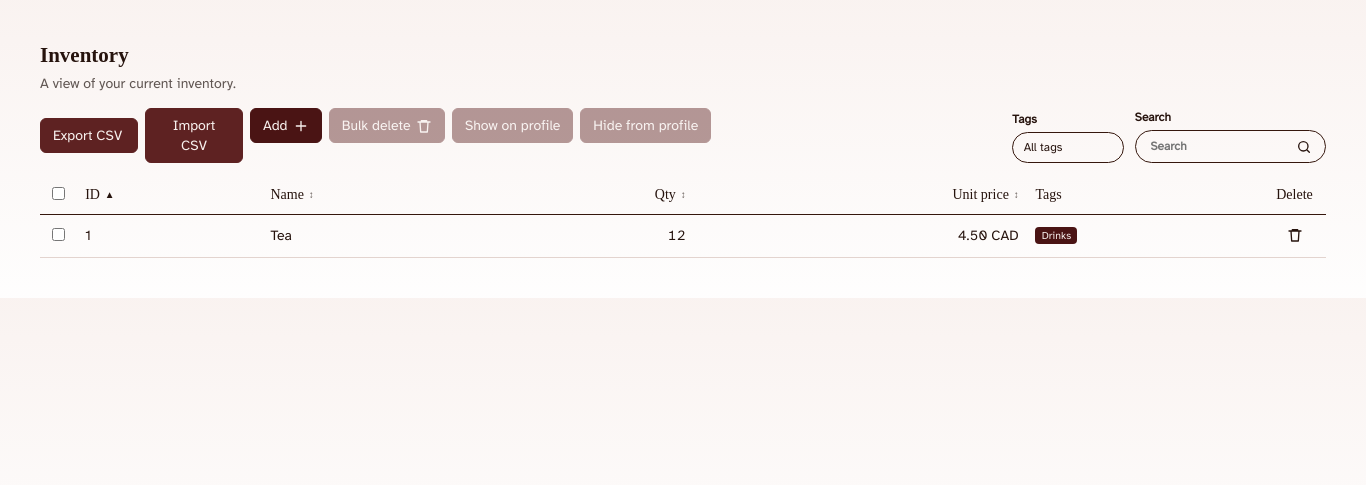
InventoryPage › filters by the ticked tags from page 1, and says when nothing has them
Check: the text "Tea" is shown, box [262, 214, 503, 257]
Step 1. Click the button "Tags All tags" → (1068, 148), box [1012, 132, 1124, 163]
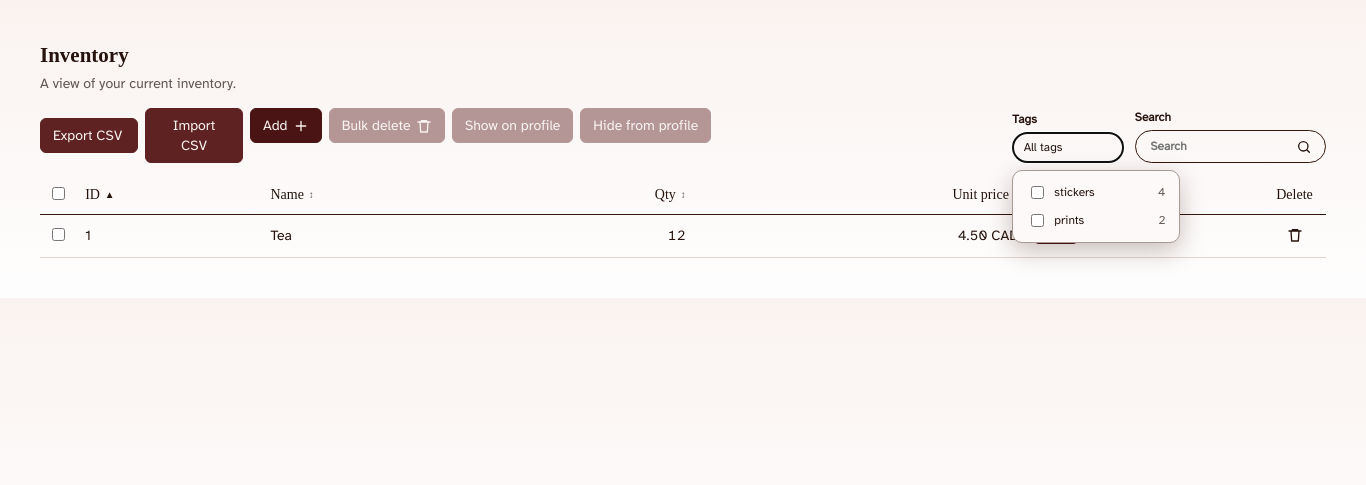
Step 2. Click the checkbox labelled "stickers 4" → (1038, 192), box [1031, 186, 1044, 199]
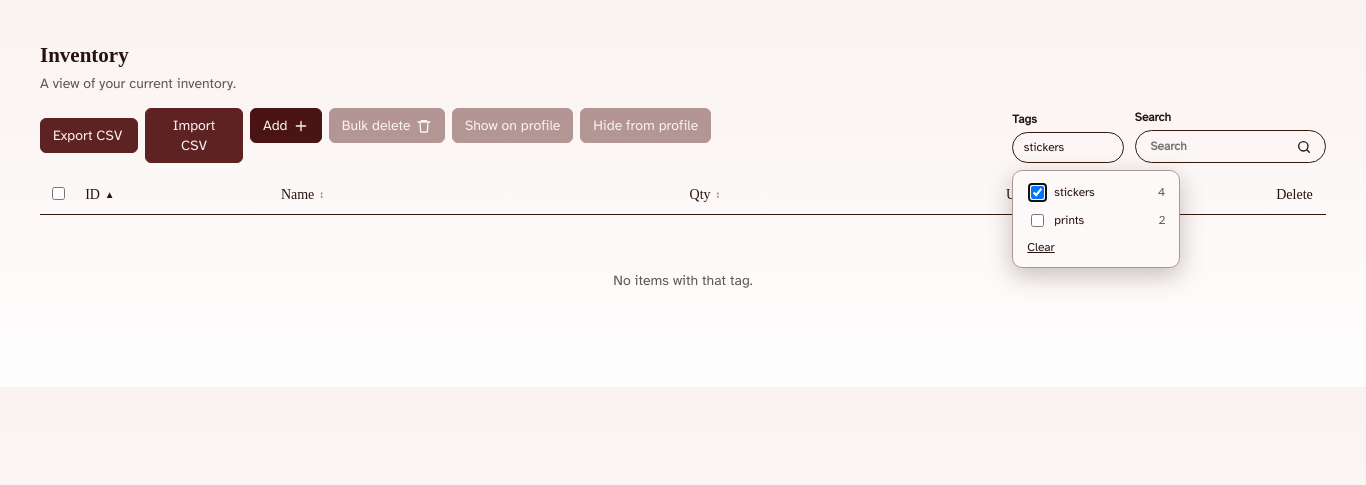
Step 3. Click the checkbox labelled "prints 2" → (1038, 221), box [1031, 214, 1044, 227]
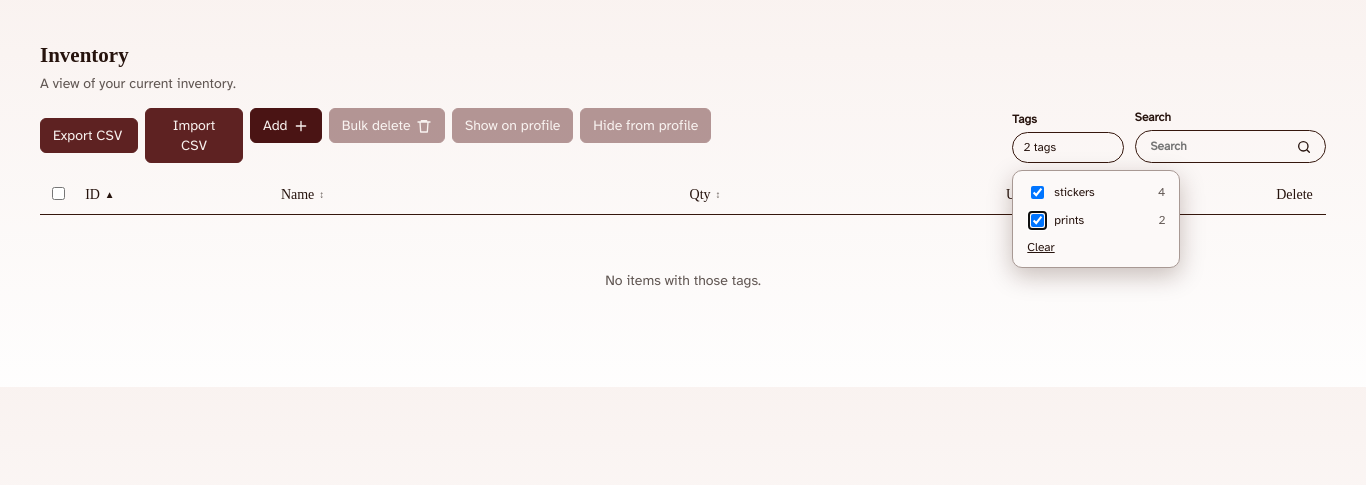
Check: the button "Tags 2 tags" is shown, box [1012, 132, 1124, 163]
Check: the text "No items with those tags." is shown, box [605, 272, 761, 289]
